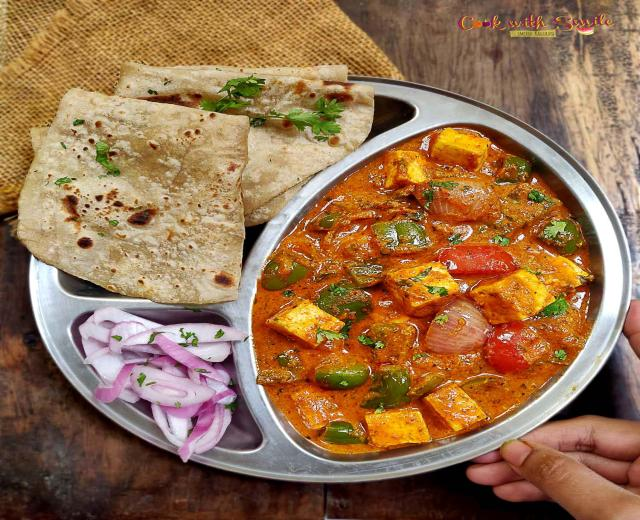chapati: (18, 63, 374, 303)
kadai paneer: (249, 120, 593, 454)
